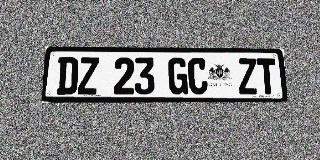2: (114, 57, 134, 94)
3: (134, 57, 154, 94)
C: (188, 58, 208, 94)
D: (56, 57, 78, 95)
G: (168, 58, 188, 94)
T: (256, 58, 278, 94)
Z: (77, 57, 99, 95), (237, 58, 258, 94)
